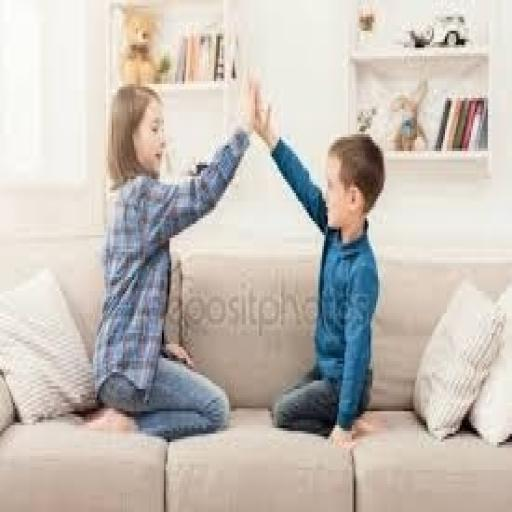clapping: (89, 67, 261, 439), (242, 70, 385, 450)
